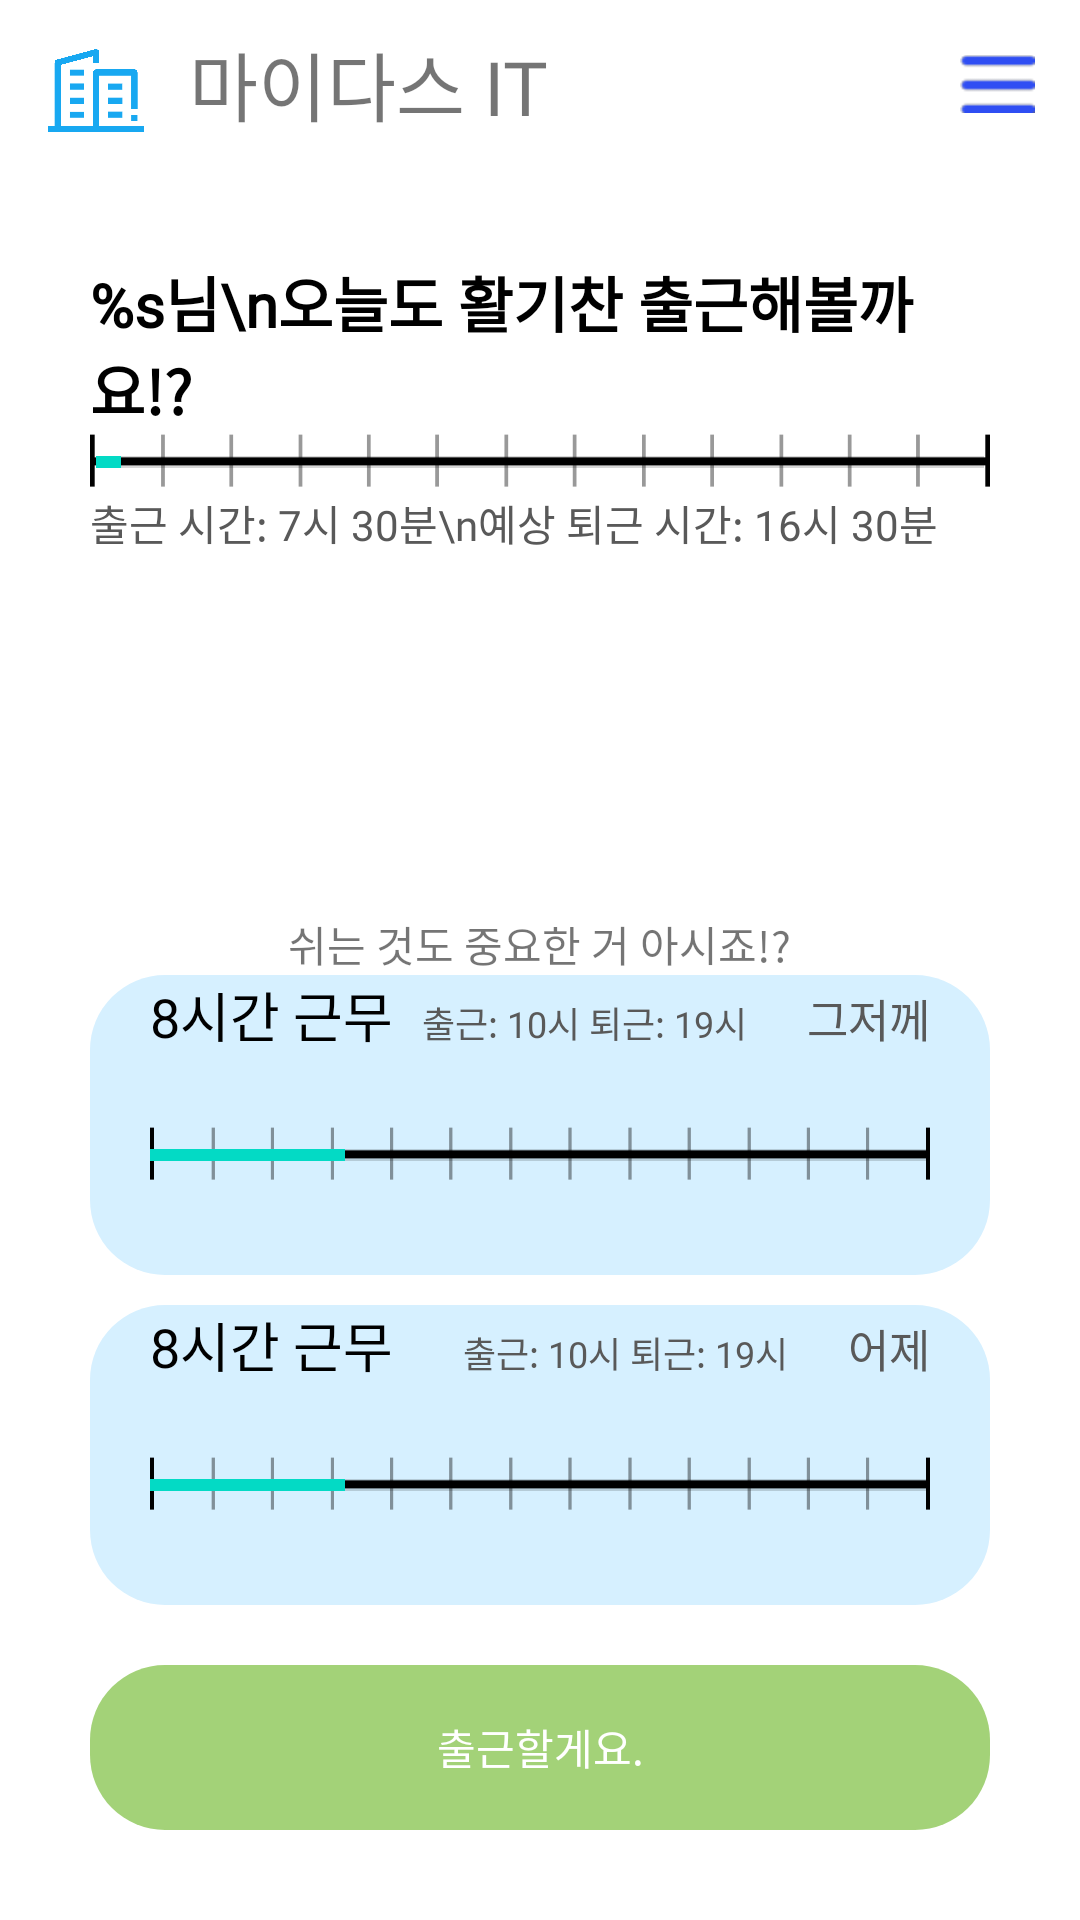

Screen size 1080 × 1920. Icon name, then its box in pixels as rect(x1, y1, x2, y2):
menu: rect(960, 55, 1035, 113)
